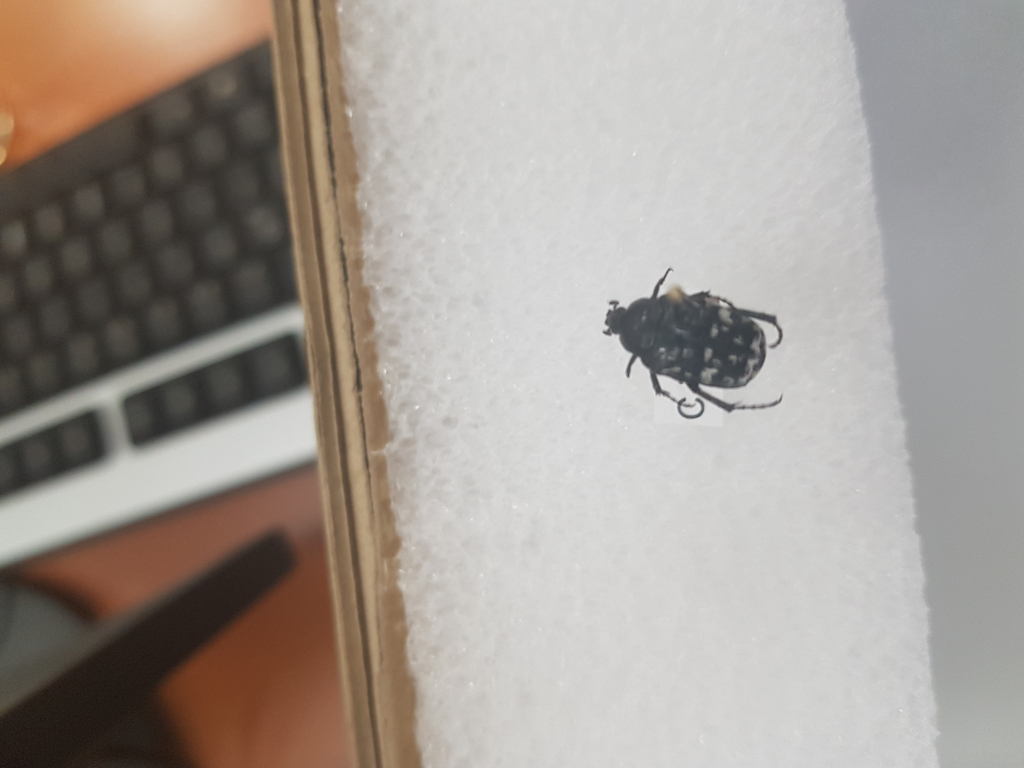Oxythyrea_albopicta: (603, 278, 794, 423)
